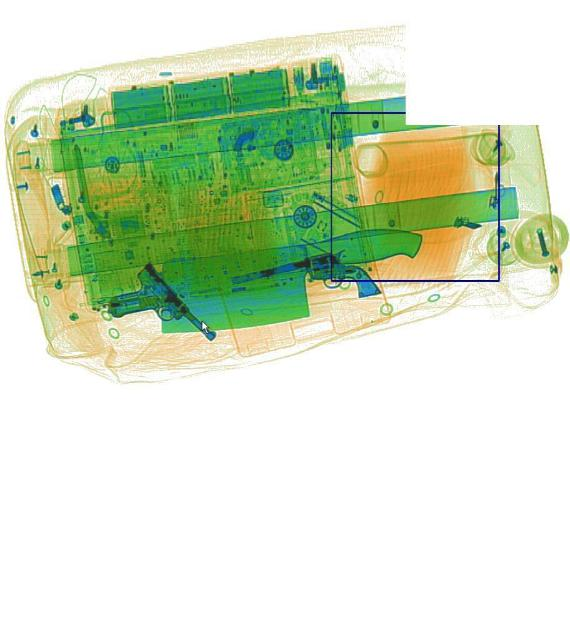Gun: (100, 260, 214, 378), (229, 241, 381, 323)
Knife: (151, 222, 427, 336)
